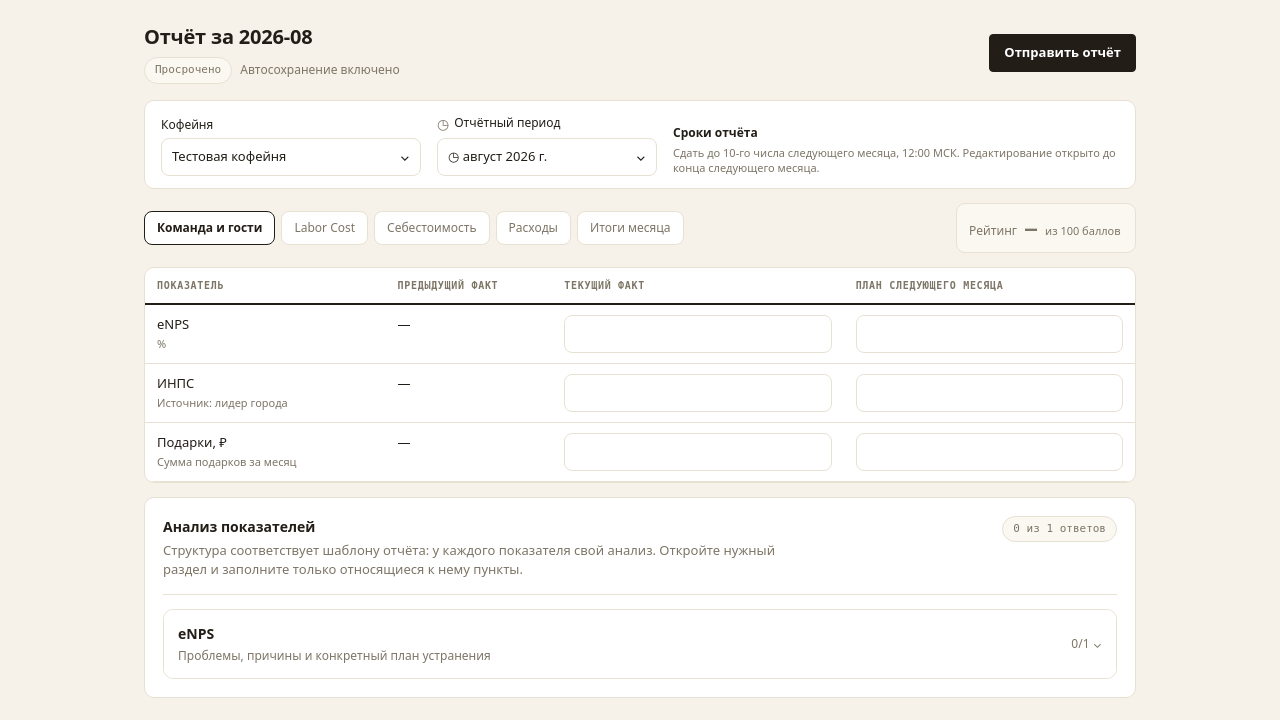
Test: LeaderReportPage › keeps edits and exposes server errors when saving fails
The image size is (1280, 720).
In the field named "eNPS": x=698, y=334 [564,314,832,352], type "bad"
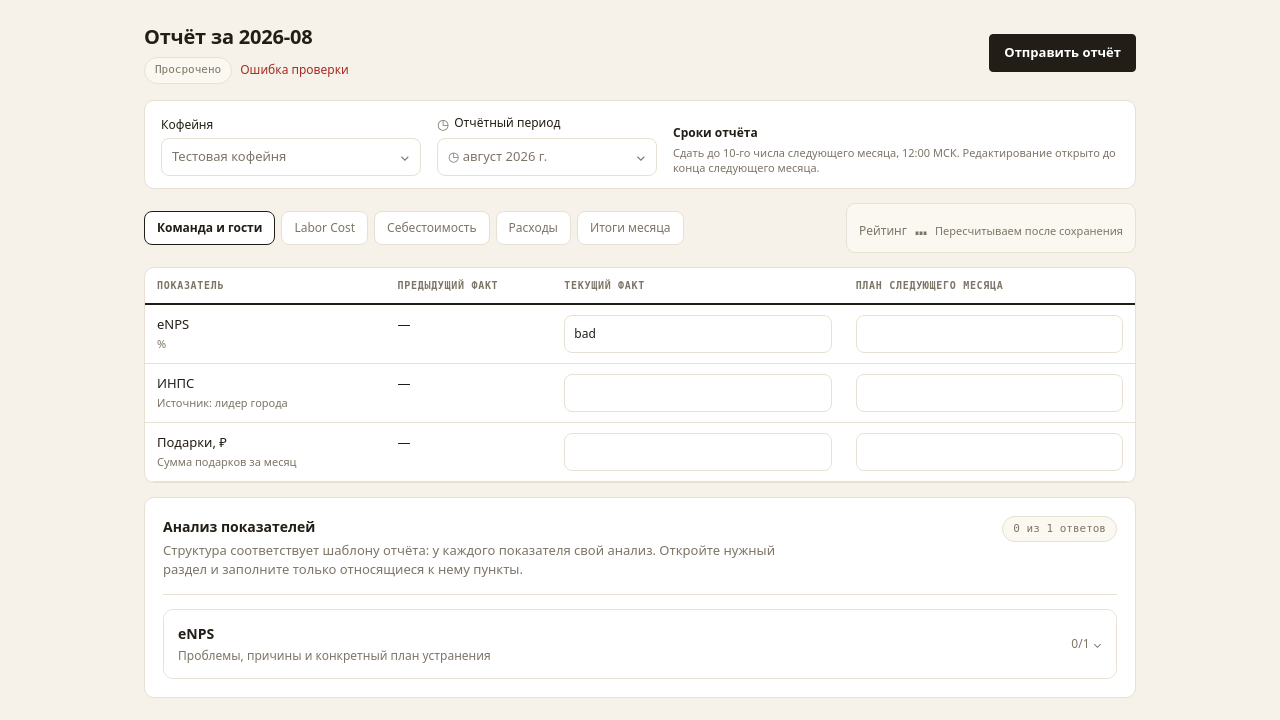
Expected: the message reads "Ошибка проверки", [240,61,349,78]
